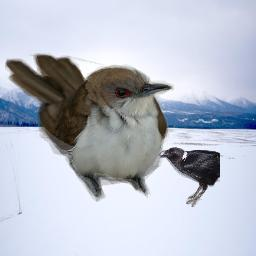Crow: (158, 147, 220, 207)
Cuckoo: (5, 53, 174, 204)
